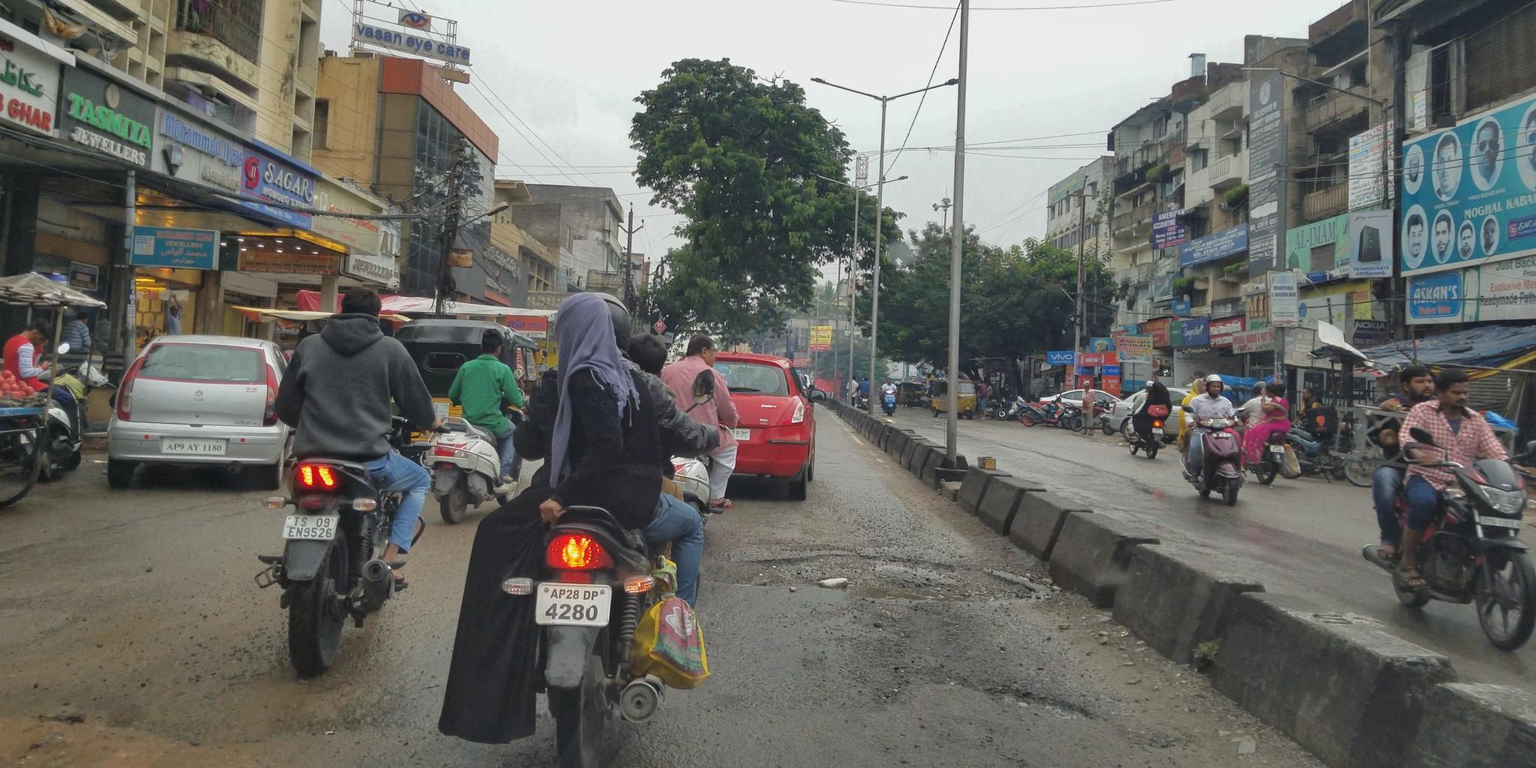streetlight: (785, 50, 889, 106), (866, 65, 979, 110), (784, 162, 852, 208), (852, 165, 908, 202), (461, 194, 514, 232)
